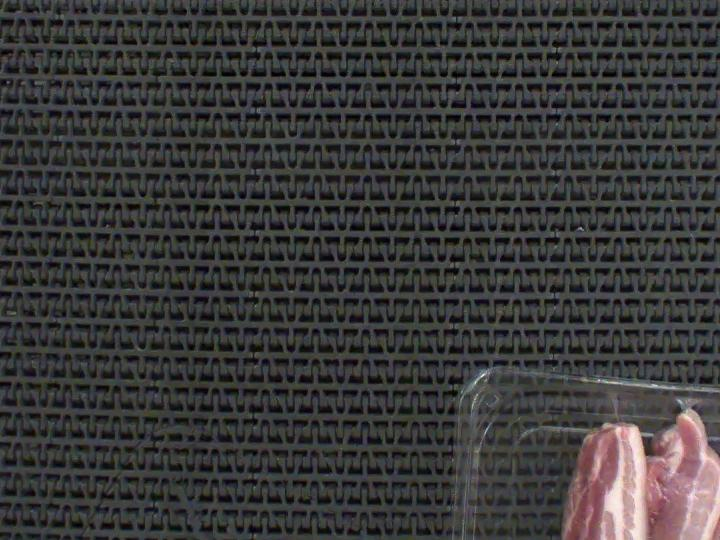packaging-error: (607, 381, 624, 423), (676, 388, 699, 411)
